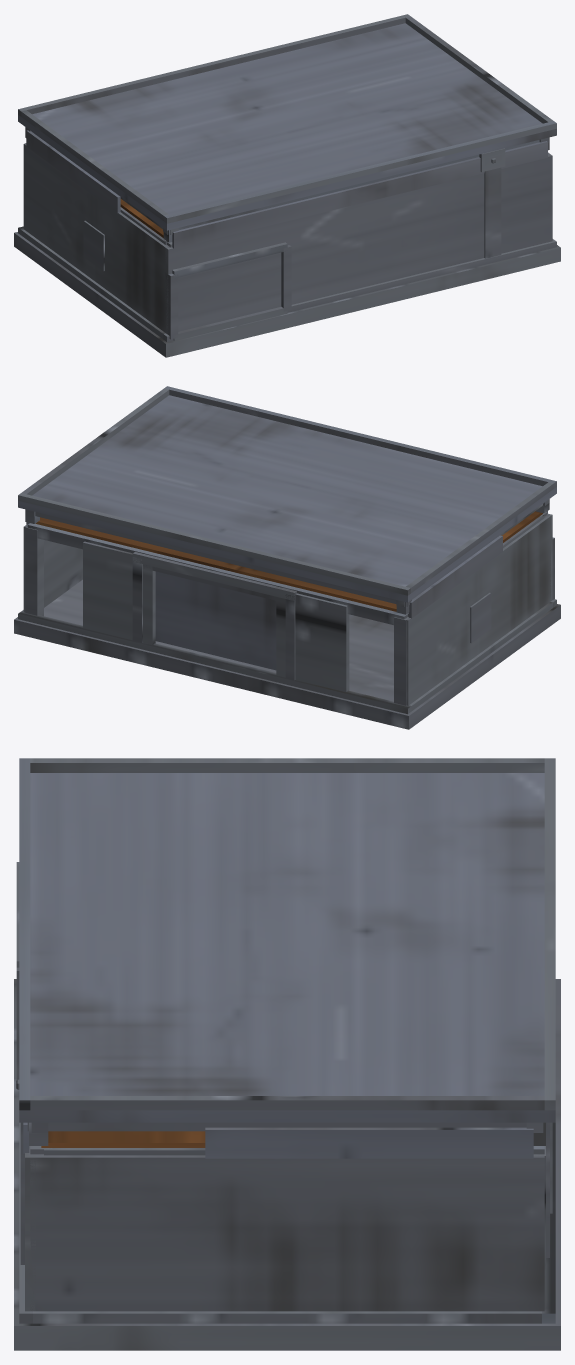
3 renders of one model, top to bottom at view 1: azimuth 30°, elevation 25°; view 2: azimuth 150°, elevation 25°; view 3: azimuth 270°, elevation 25°, orthographic. The views are drawn at different scales.
Visible parts, largest first — view 1: SM_HDBF_BoxFarm_Top_LOD2; view 2: SM_HDBF_BoxFarm_Top_LOD2; view 3: SM_HDBF_BoxFarm_Top_LOD2.
Boxes of the visible parts, box(x1,y1,x2,y2) form: SM_HDBF_BoxFarm_Top_LOD2: box(14, 14, 560, 357); SM_HDBF_BoxFarm_Top_LOD2: box(14, 386, 560, 729); SM_HDBF_BoxFarm_Top_LOD2: box(14, 758, 560, 1350).
Size of the model in its own units: 3 by 1 by 2.
4 materials, 4 textured.
